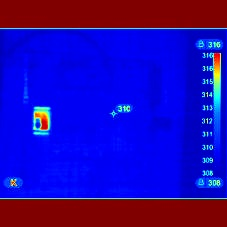Less: (35, 119, 42, 130)
